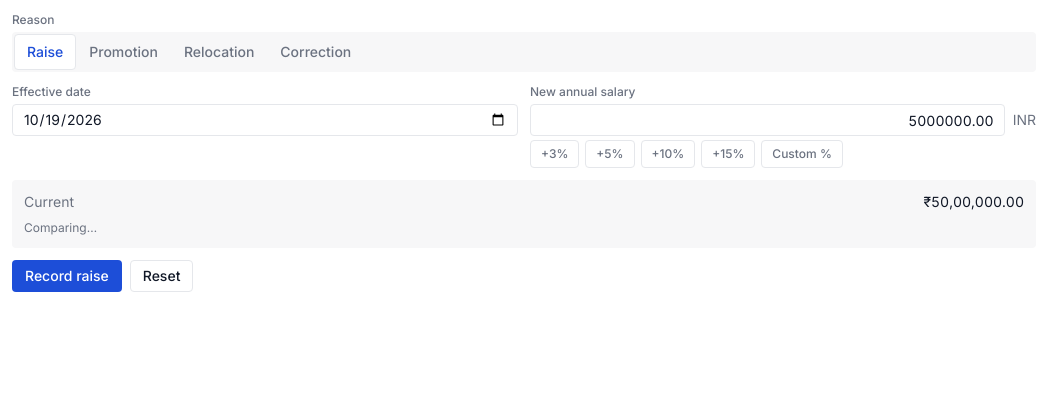
Scenario: SalaryChangeForm › rejects a raise that does not increase pay
Replace the text in the field labelled "New annual salary" with "4000000": (767, 120) [530, 104, 1005, 136]
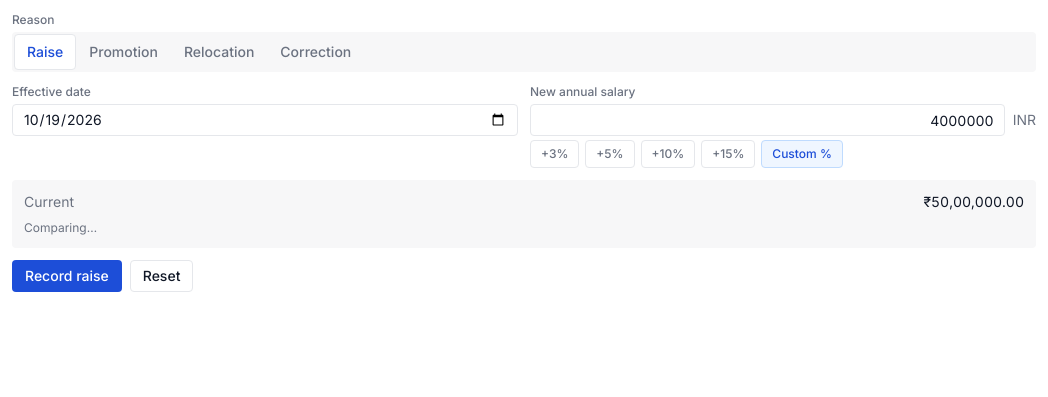
Click the button "Record raise": (67, 276) [12, 260, 122, 292]
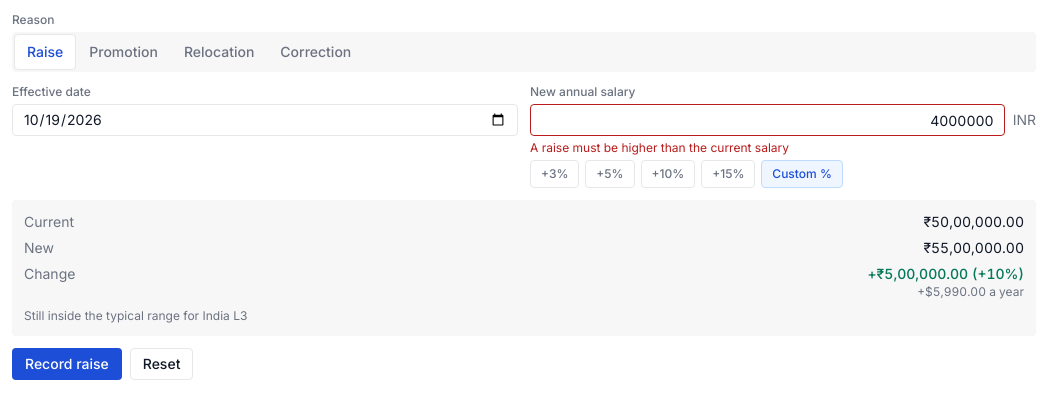
Expected: the text "A raise must be higher than the current salary" is shown, [530, 140, 789, 155]
